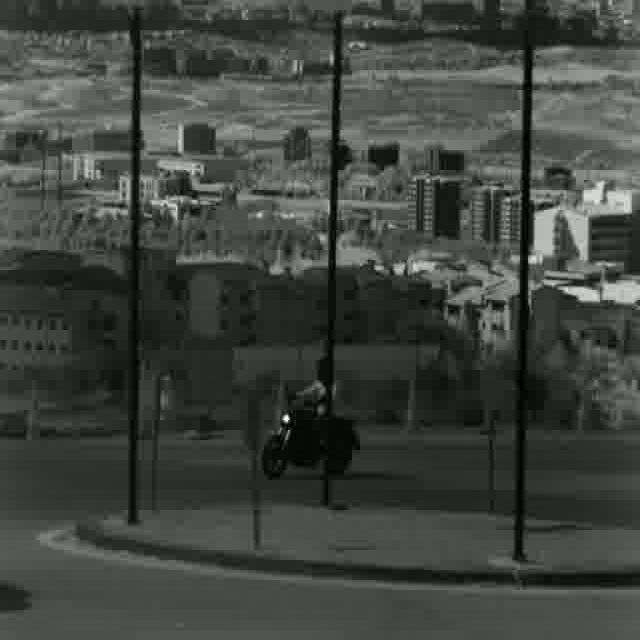Motorcycle: (258, 358, 358, 478)
